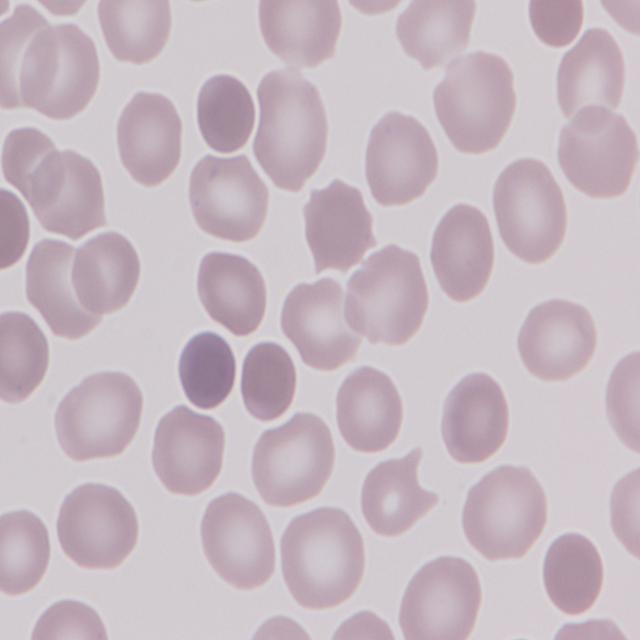RBC: (275, 508, 368, 614), (252, 70, 331, 194), (486, 157, 570, 269), (458, 462, 548, 564), (431, 52, 517, 158), (341, 245, 429, 346), (248, 416, 340, 510), (554, 103, 640, 202), (54, 368, 144, 462), (276, 272, 360, 372), (18, 20, 100, 121), (56, 480, 140, 578), (198, 493, 278, 594), (185, 151, 269, 247), (146, 404, 226, 504), (360, 109, 440, 208), (552, 30, 630, 129), (301, 176, 378, 276), (30, 146, 109, 242), (515, 298, 600, 385), (440, 371, 515, 468), (427, 204, 495, 310), (114, 88, 186, 186), (193, 248, 270, 338), (254, 0, 344, 76), (400, 558, 483, 640), (332, 362, 404, 454), (68, 228, 140, 315), (357, 456, 427, 543), (92, 0, 174, 73), (392, 0, 478, 69), (0, 306, 52, 405), (1, 120, 63, 203), (0, 507, 53, 602), (604, 344, 640, 460), (27, 596, 114, 640), (607, 455, 640, 564), (323, 609, 403, 640), (240, 614, 323, 640), (546, 618, 633, 640), (595, 0, 640, 40), (17, 0, 100, 19), (336, 0, 419, 18)
Spherocyte: (542, 530, 608, 622), (192, 70, 257, 158), (234, 336, 298, 422), (174, 328, 238, 414), (526, 0, 588, 48), (0, 187, 29, 276)
